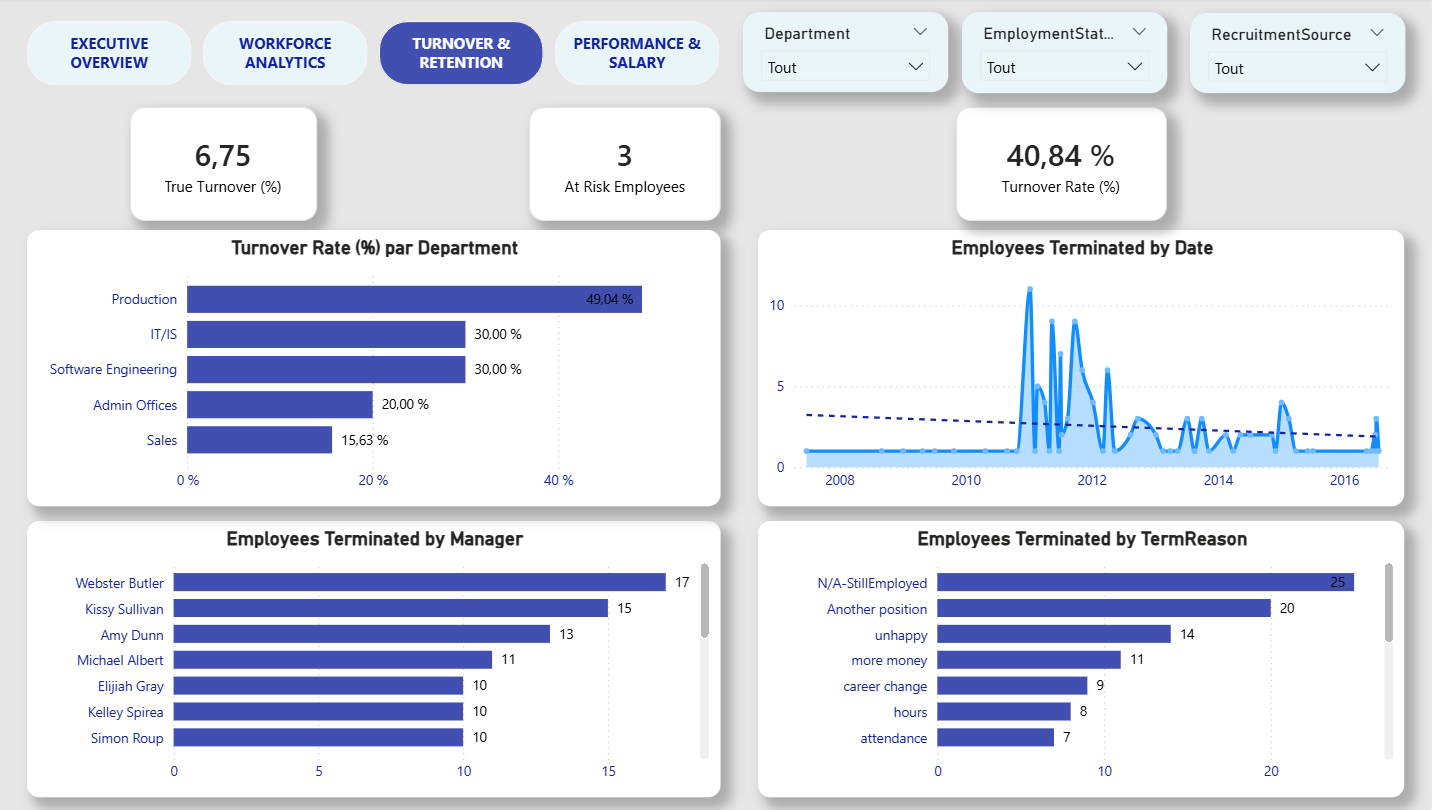

What the dashboard file says about the page in this screenshot:
{"tool":"powerbi","page":{"name":"TURNOVER & RETENTION","canvas":[1280,720],"ordinal":2},"visuals":[{"type":"cardVisual","fields":{"Data":["_mesures.True Turnover (%)"]},"box":[125.8,96.3,165.8,101],"z":0},{"type":"lineChart","title":"Employees Terminated by Date","fields":{"Category":["Date.Date"],"Y":["_mesures.Employees Terminated"]},"box":[682.8,205.4,573.5,245.4],"z":1000},{"type":"clusteredBarChart","title":"Employees Terminated by TermReason","fields":{"Category":["TerminationReason.TermReason"],"Y":["_mesures.Employees Terminated"]},"box":[682.8,464.1,573.5,245.4],"z":2000},{"type":"clusteredBarChart","title":"Employees Terminated by Manager","fields":{"Category":["Manager.ManagerName"],"Y":["_mesures.Employees Terminated"]},"box":[34.7,464.1,614.8,245.4],"z":3000},{"type":"cardVisual","fields":{"Data":["_mesures.Turnover Rate (%)"]},"box":[858.7,96.3,186.8,101],"z":4000},{"type":"cardVisual","fields":{"Data":["_mesures.At Risk Employees"]},"box":[480.1,96.3,170,101.3],"z":5000},{"type":"slicer","fields":{"Values":["Department.Department"]},"box":[669.1,12.4,182,71.5],"z":6000},{"type":"slicer","fields":{"Values":["EmploymentStatus.EmploymentStatus"]},"box":[863.5,12.4,182,72.4],"z":7000},{"type":"slicer","fields":{"Values":["RecruitmentSource.RecruitmentSource"]},"box":[1065.6,13.3,190.6,71.5],"z":8000},{"type":"pageNavigator","box":[34.3,20,614.7,57.2],"z":9000},{"type":"clusteredBarChart","fields":{"Category":["Department.Department"],"Y":["_mesures.Turnover Rate (%)"]},"box":[34.7,205.4,614.8,245.4],"z":10000}]}

Visuals, with their boxes in screenshot pixels (x1, y1, x2, y2), scaled from the page's 1280x720 canvas onto the 1432x810 screenshot:
cardVisual - _mesures.True Turnover (%): 141:108:326:222
"Employees Terminated by Date" lineChart: 764:231:1405:507
"Employees Terminated by TermReason" clusteredBarChart: 764:522:1405:798
"Employees Terminated by Manager" clusteredBarChart: 39:522:727:798
cardVisual - _mesures.Turnover Rate (%): 961:108:1170:222
cardVisual - _mesures.At Risk Employees: 537:108:727:222
slicer - Department.Department: 749:14:952:94
slicer - EmploymentStatus.EmploymentStatus: 966:14:1170:95
slicer - RecruitmentSource.RecruitmentSource: 1192:15:1405:95
pageNavigator: 38:22:726:87
clusteredBarChart - Department.Department x _mesures.Turnover Rate (%): 39:231:727:507
